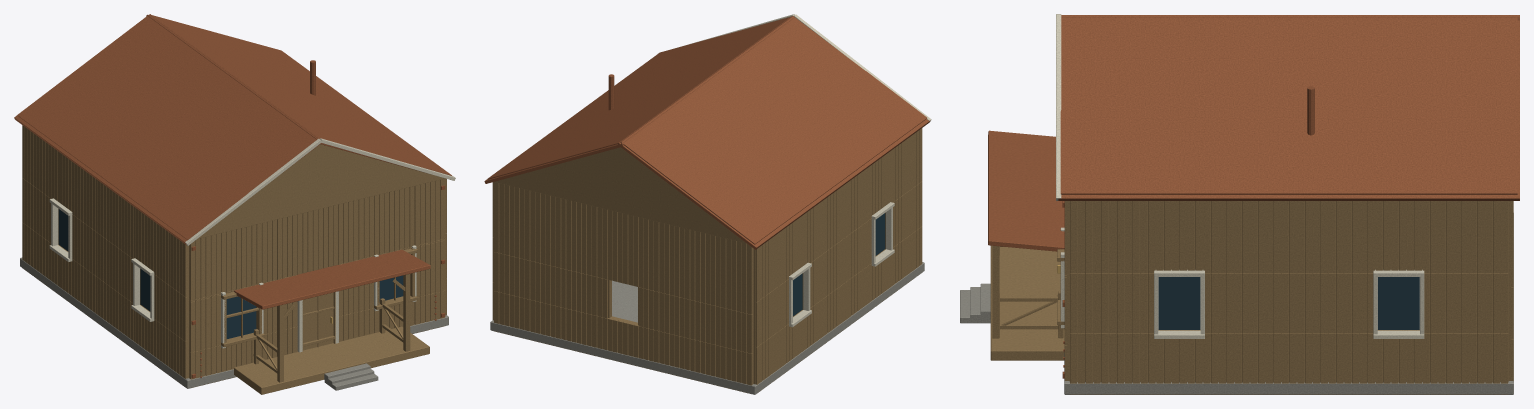
File: RUSTICA2_lod0.glb
3 renders of one model, left to right at view 1: azimuth 30°, elevation 25°; view 2: azimuth 150°, elevation 25°; view 3: azimuth 270°, elevation 25°, orthographic. The views are drawn at different scales.
Visible parts, largest first — view 1: RUSTICA2_LOD0; view 2: RUSTICA2_LOD0; view 3: RUSTICA2_LOD0.
Boxes of the visible parts, x1=… form: RUSTICA2_LOD0: x1=14, y1=14, x2=455, y2=394; RUSTICA2_LOD0: x1=484, y1=14, x2=931, y2=394; RUSTICA2_LOD0: x1=960, y1=14, x2=1519, y2=394.
Bounding box in the file's own units: 9.51 × 7.42 × 12.76.
Materials: 9 (6 with a texture image).
